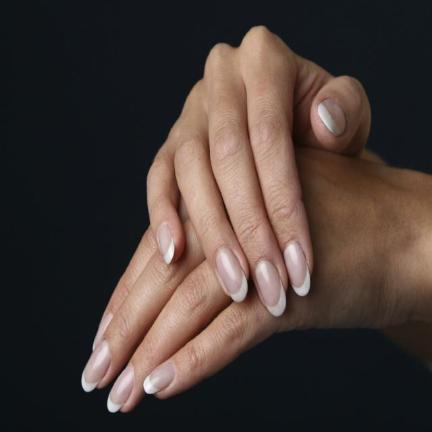Nail: (215, 248, 248, 302), (255, 260, 286, 317), (82, 340, 111, 392), (283, 242, 310, 296), (107, 365, 133, 413), (318, 99, 346, 136), (144, 362, 175, 395), (93, 313, 113, 351), (159, 224, 174, 264)
